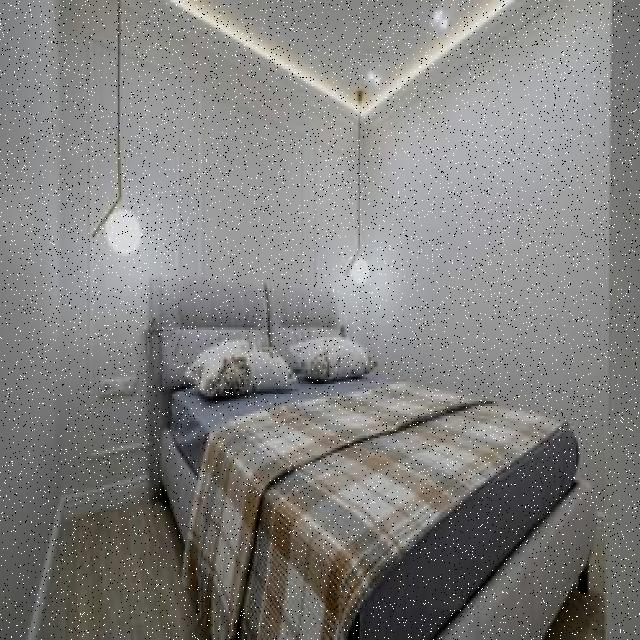bed: (145, 261, 592, 601)
